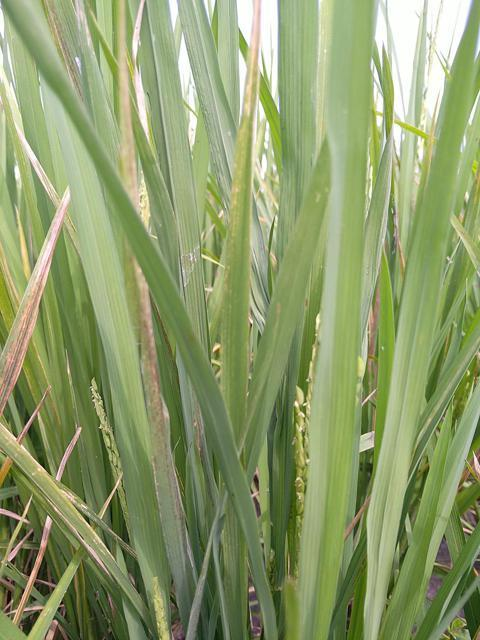Leaf Streak: (0, 190, 70, 407), (222, 0, 261, 389), (136, 261, 182, 526), (39, 0, 86, 108), (118, 38, 140, 212)
